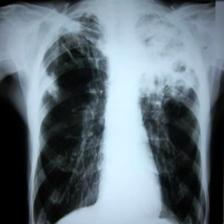tuberculosis: (27, 11, 208, 224)
